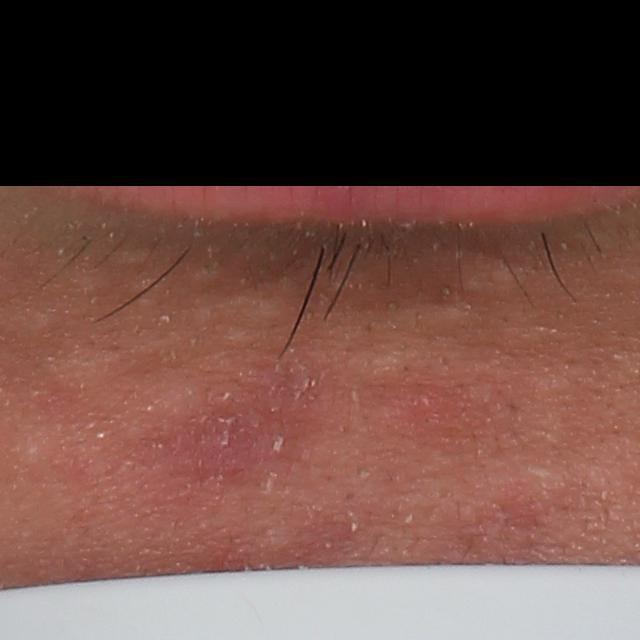hypertrophic_scar: (405, 294, 489, 342), (452, 259, 533, 300), (350, 349, 413, 382), (213, 328, 265, 350), (108, 248, 154, 269), (191, 261, 223, 284)
